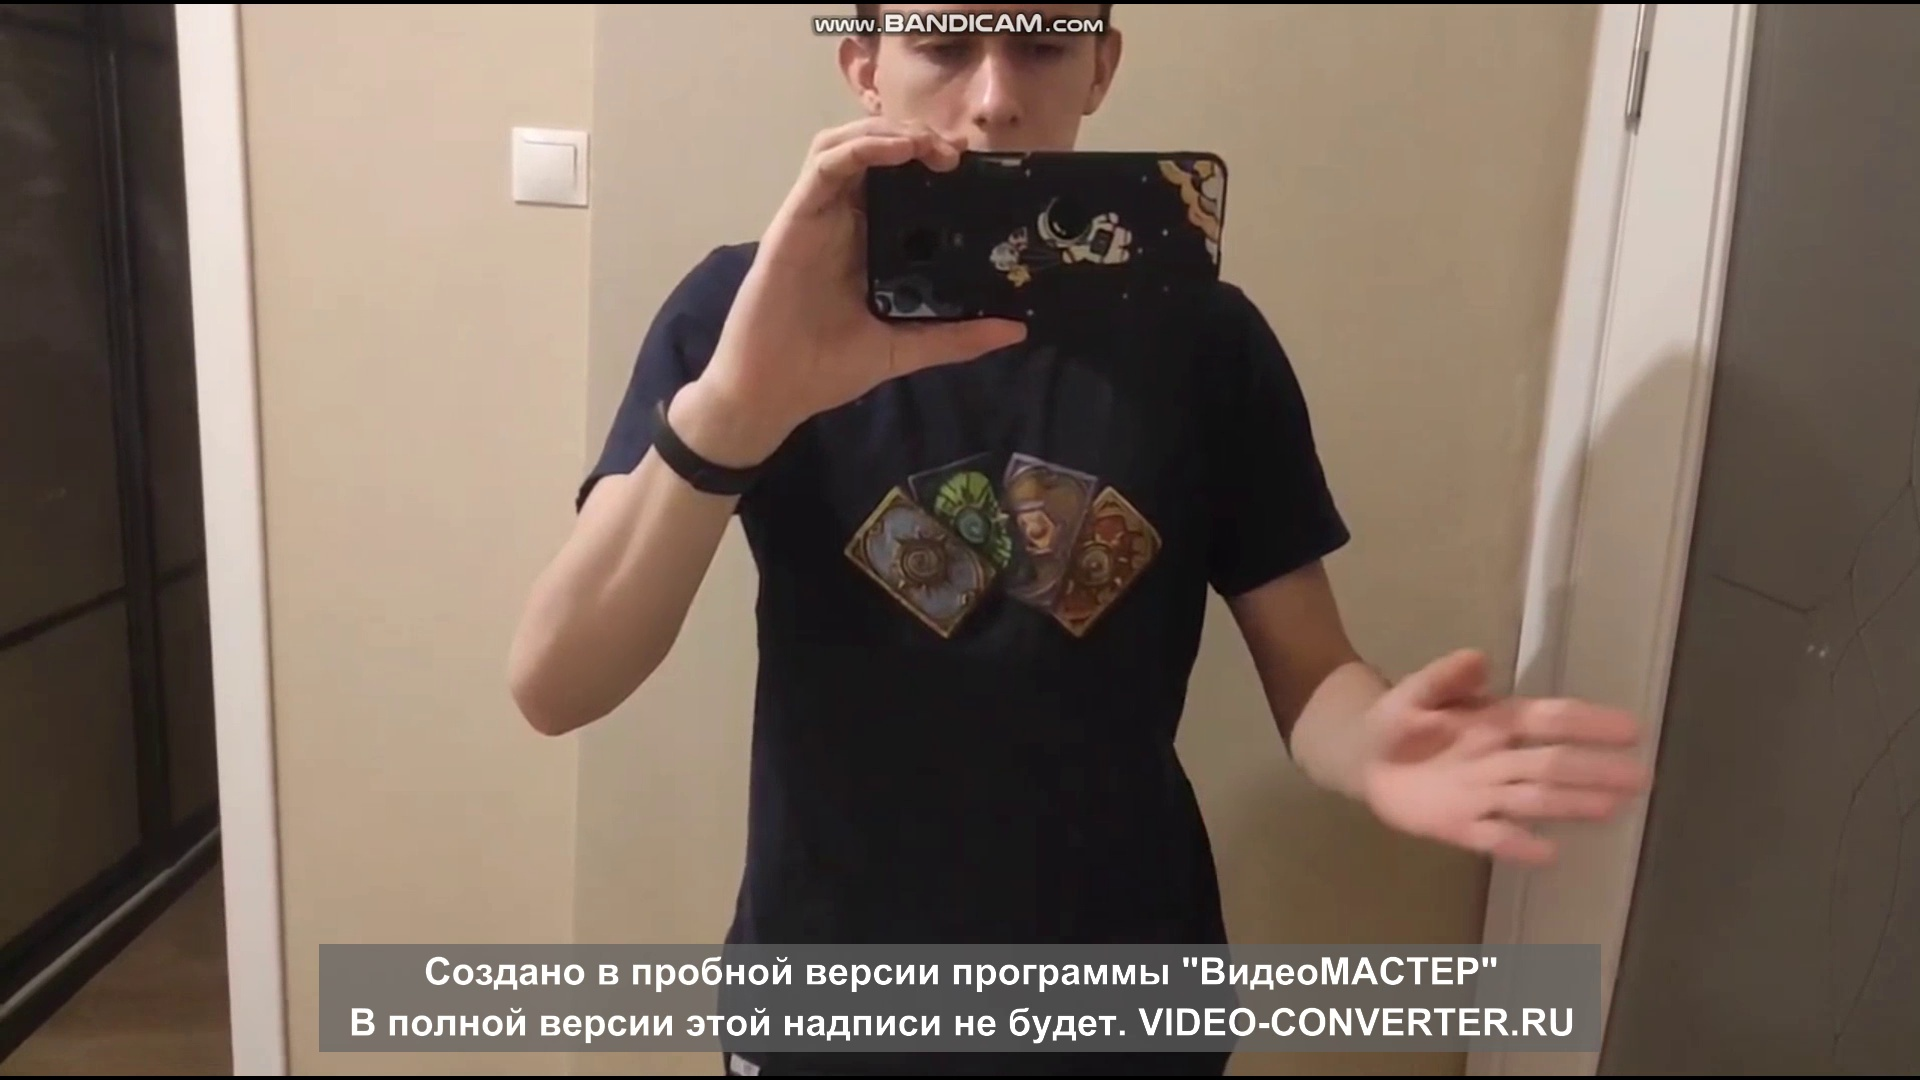Ладонь: (1362, 647, 1652, 865)
